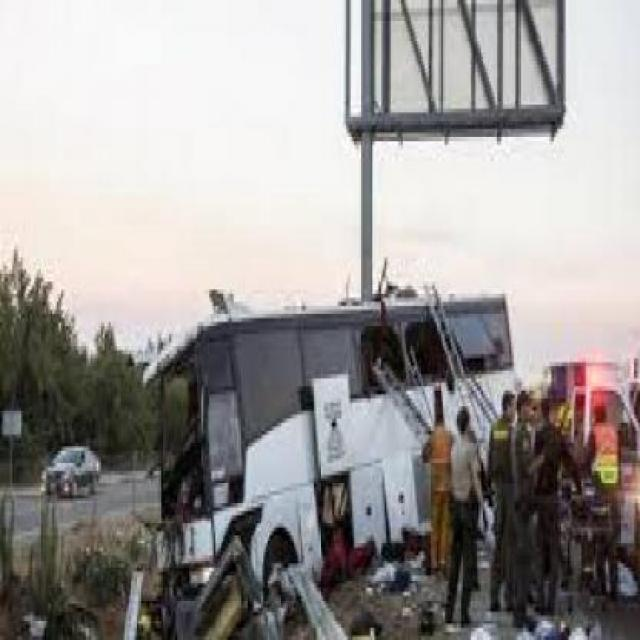accident: (138, 260, 519, 615)
